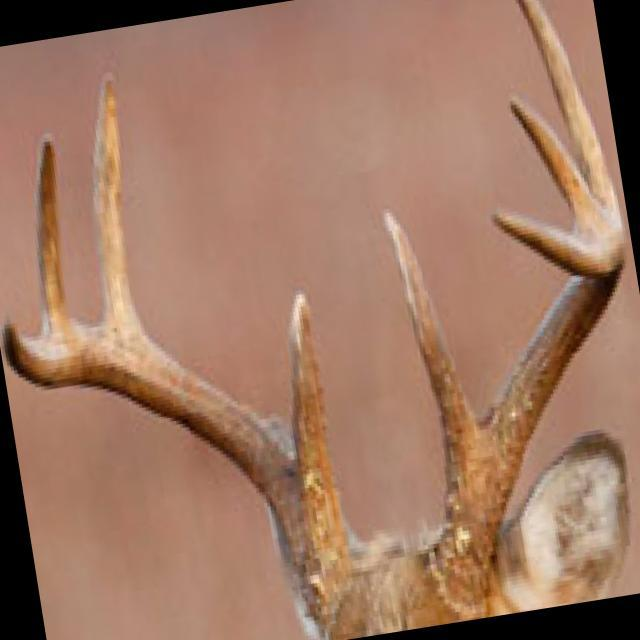L-F: (440, 211, 625, 612)
L-G1: (384, 211, 479, 490)
R-F: (4, 324, 351, 640)
R-G1: (290, 291, 339, 504)
R-G2: (93, 74, 144, 337)
R-G3: (35, 137, 69, 335)
